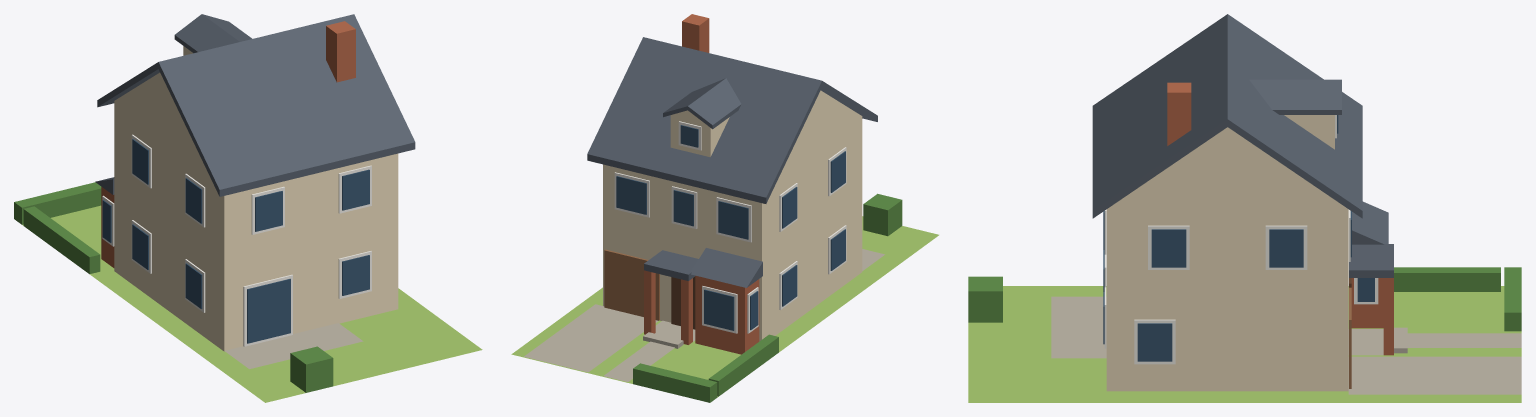
The picture shows the model from 3 angles, left to right: view 1: azimuth 30°, elevation 25°; view 2: azimuth 150°, elevation 25°; view 3: azimuth 270°, elevation 25°; orthographic projection. The views are drawn at different scales.
Visible parts, largest first — view 1: walls, roof, lawn, window_glass (×8), hedge (×2), patio, window_frame (×4), dormer_roof, tree_spot, chimney, bay; view 2: walls, roof, lawn, window_glass (×8), drive, hedge (×2), bay, garage_door, dormer_roof, bay_roof, window_frame (×4), post (×2) (+7 smaller); view 3: walls, roof, lawn, drive, window_glass (×3), hedge (×2), patio, dormer_roof, window_frame (×3), path, tree_spot, porch_roof (+6 smaller).
Boxes of the visible parts, x1,y1,x2,y2 form: walls: (114,72,398,351); roof: (97,14,415,196); lawn: (22,205,482,402); window_glass (×8): (132,139,369,343); hedge (×2): (14,182,101,274); patio: (224,323,363,368); window_frame (×4): (243,165,371,346); dormer_roof: (174,14,252,53); tree_spot: (290,346,333,392); chimney: (326,21,355,82); bay: (101,187,114,267); walls: (603,90,862,341); roof: (587,37,877,203); lawn: (511,216,938,397); window_glass (×8): (616,151,845,330); drive: (524,304,658,372); hedge (×2): (633,334,778,402); bay: (695,275,759,354); garage_door: (604,249,659,320); dormer_roof: (663,78,741,129); bay_roof: (691,248,762,287); window_frame (×4): (614,172,751,333); post (×2): (644,270,692,344); walls: (1106,127,1348,391); roof: (1092,14,1362,218); lawn: (968,286,1521,402); drive: (1348,356,1521,394); window_glass (×3): (1137,229,1303,361); hedge (×2): (1394,267,1521,331); patio: (1051,296,1106,358); dormer_roof: (1249,79,1341,114); window_frame (×3): (1134,225,1307,364); path: (1407,333,1521,347); tree_spot: (968,276,1002,322); porch_roof: (1349,244,1393,277).
Size of the model in its own units: 8 by 9.27 by 16.
